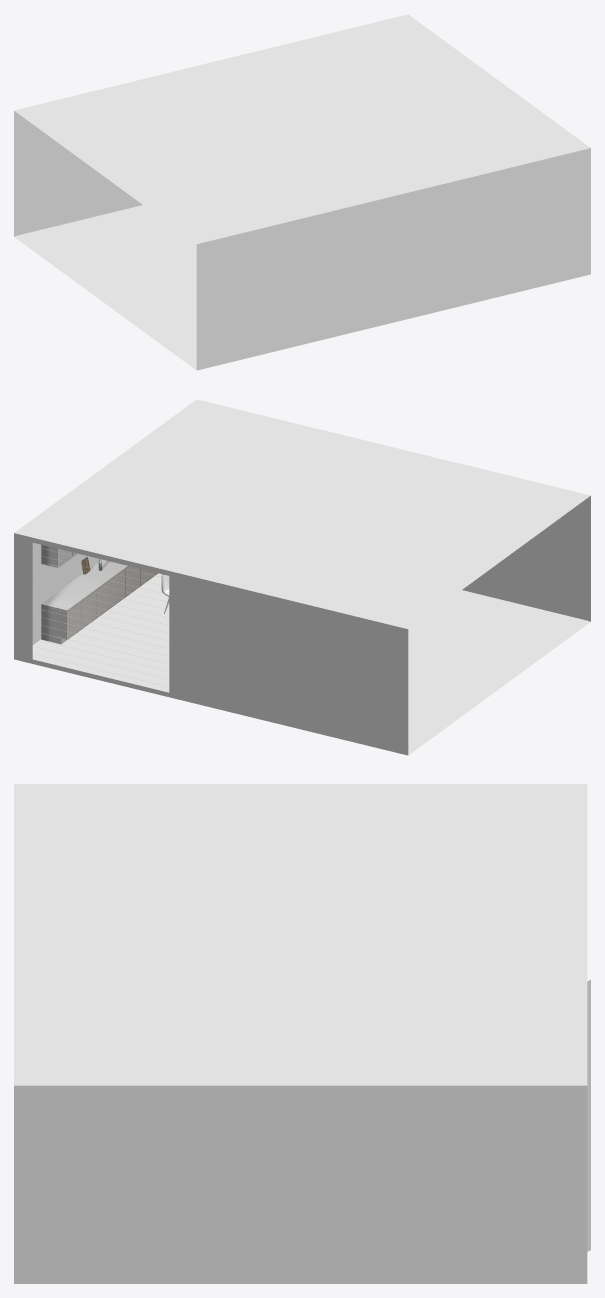
The picture shows the model from 3 angles, top to bottom: view 1: azimuth 30°, elevation 25°; view 2: azimuth 150°, elevation 25°; view 3: azimuth 270°, elevation 25°; orthographic projection. The views are drawn at different scales.
Visible parts, largest first — view 1: walls, Plane; view 2: walls, Plane, kitchen; view 3: walls.
Boxes of the visible parts, <box> form: walls: <box>14,14,590,370</box>; Plane: <box>15,112,196,368</box>; walls: <box>14,399,590,755</box>; Plane: <box>32,497,589,753</box>; kitchen: <box>41,544,157,644</box>; walls: <box>14,784,590,1283</box>.
Size of the model in its own units: 9.85 by 3.02 by 7.96.
9 materials, 6 textured.
